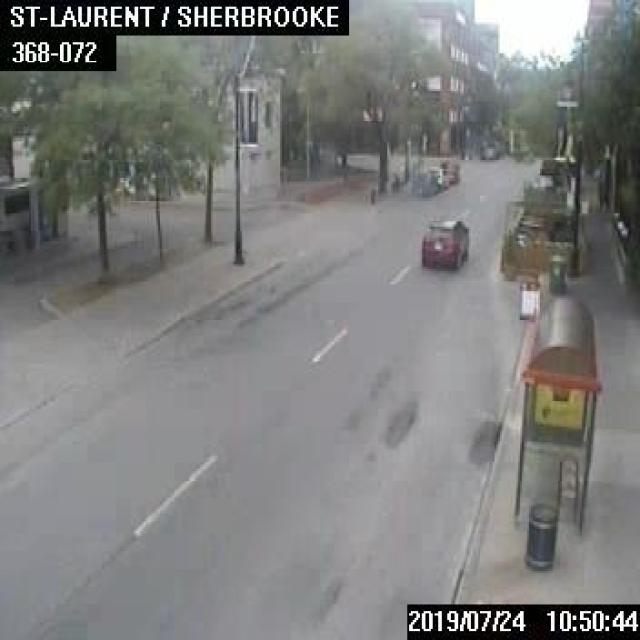vehicle: (421, 217, 467, 267), (409, 170, 433, 193), (438, 157, 457, 181), (426, 166, 447, 187)
